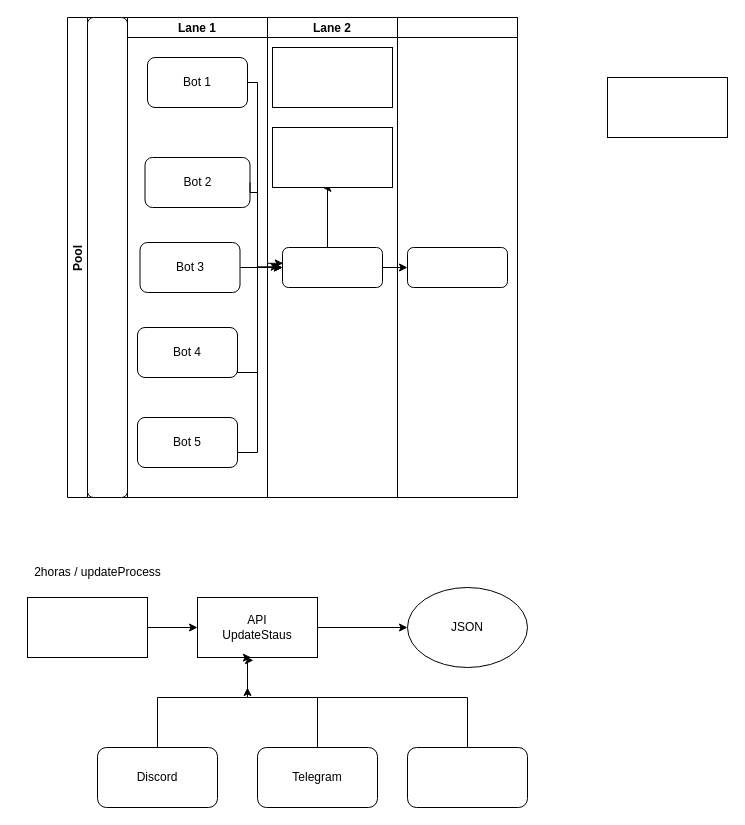
The diagram is 745 pixels wide and 825 high, and some of its shapes have lost their labels. Each missing label, with the box of its shape:
BD: (272, 126, 392, 188)
BOT UpdateStaus: (26, 596, 148, 658)
Cloud Storage OneDrive/ Google Drive: (272, 46, 392, 108)
Lane 3: (396, 16, 518, 498)
UI Controle: (406, 746, 528, 808)
WS: (606, 76, 728, 138)
